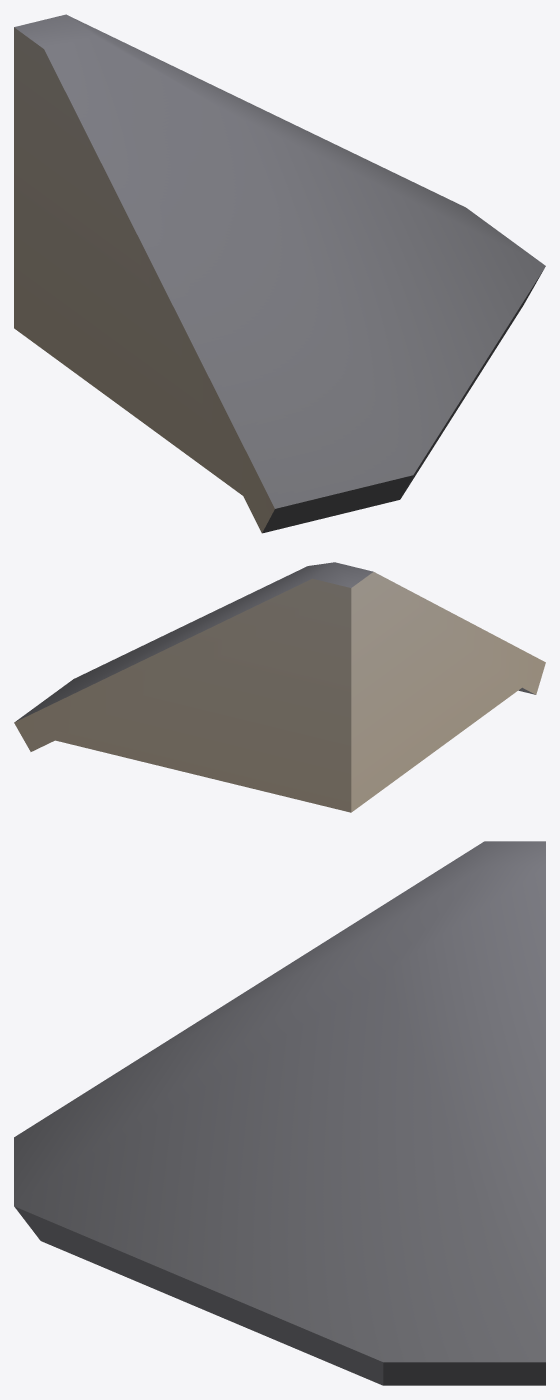
File: roof-slanted-corner-a.glb
3 views of the same model, one above another, from view 1: azimuth 30°, elevation 25°; view 2: azimuth 150°, elevation 25°; view 3: azimuth 270°, elevation 25° (orthographic). The views are drawn at different scales.
Parts seen in each view (by area): view 1: roof-slanted-corner-a; view 2: roof-slanted-corner-a; view 3: roof-slanted-corner-a.
Boxes of the visible parts, x1,y1,x2,y2 form: roof-slanted-corner-a: [14, 14, 545, 533]; roof-slanted-corner-a: [14, 562, 545, 812]; roof-slanted-corner-a: [14, 841, 545, 1385].
Size of the model in its own units: 1.14 by 0.782 by 1.14.
